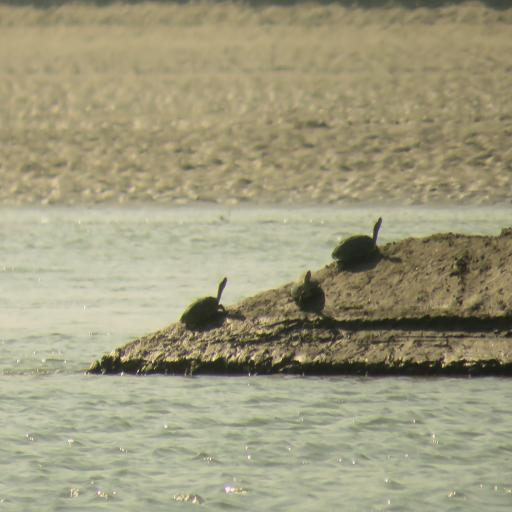turtle: (330, 212, 385, 271), (180, 273, 230, 331), (289, 265, 318, 306)
